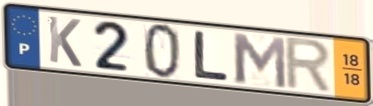0: (142, 22, 182, 80)
2: (92, 20, 136, 74)
K: (46, 14, 84, 70)
L: (192, 29, 231, 83)
M: (229, 30, 289, 91)
R: (283, 35, 335, 96)
